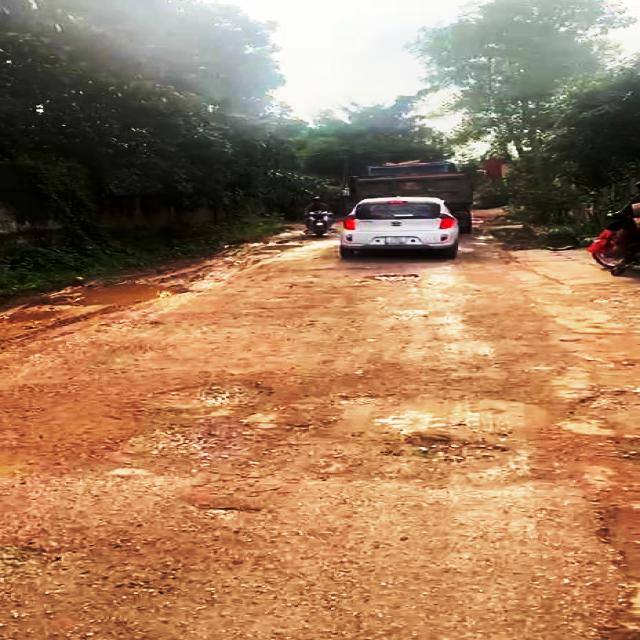pothole: (273, 395, 506, 483), (571, 391, 640, 640), (105, 422, 256, 481), (138, 377, 279, 413), (55, 280, 186, 308), (0, 308, 59, 326), (357, 272, 425, 283)
